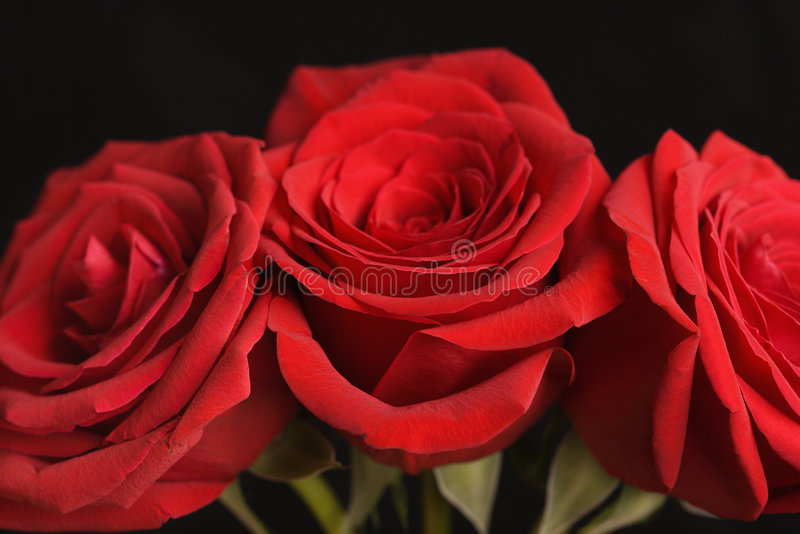RedRose: (257, 41, 544, 451), (15, 134, 273, 473), (620, 139, 800, 499)
